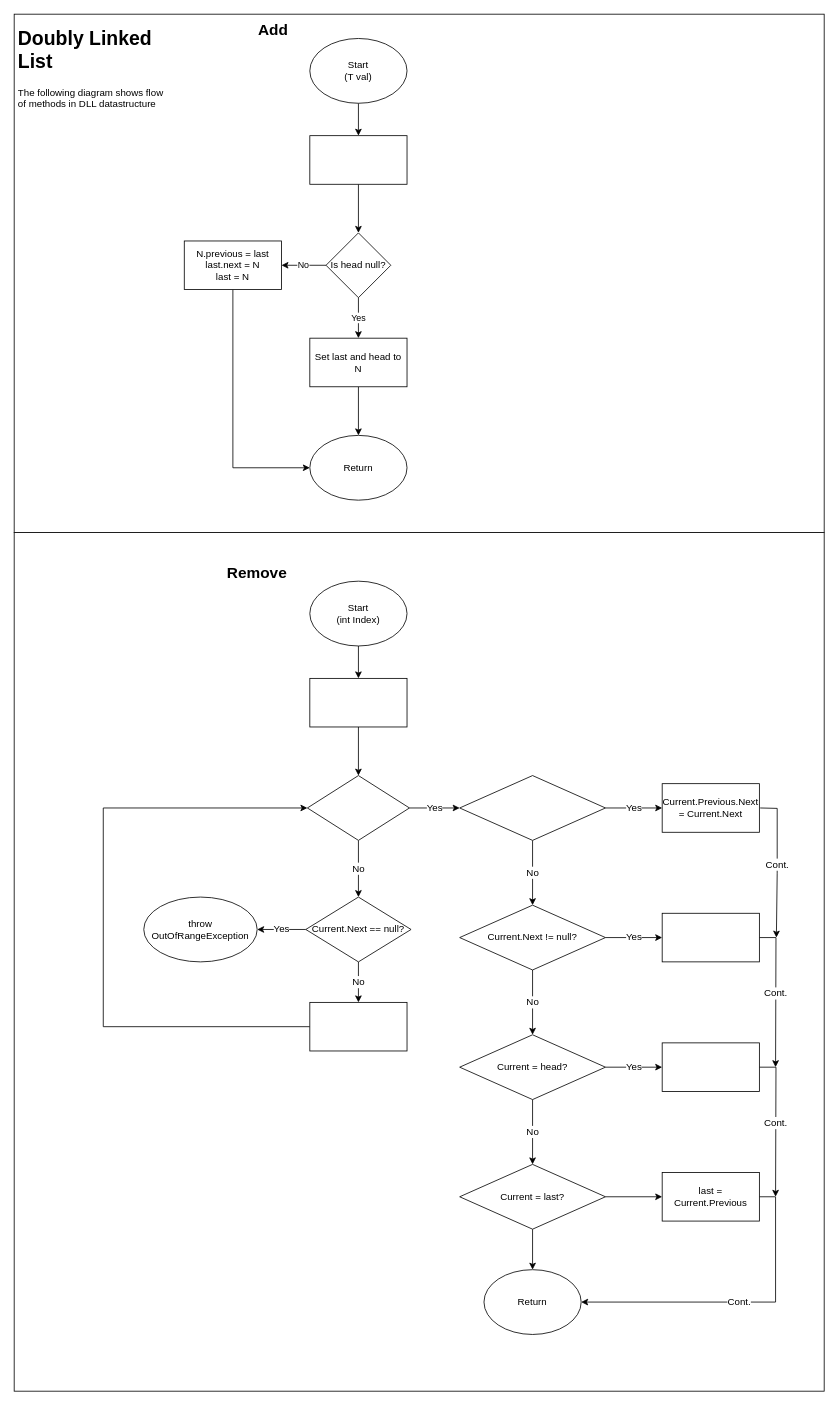
Image size: 838x1405. Some labels were removed from this diagram. Each missing label, with the centre of its shape:
Create a new Node N and assign value: (358,159)
Current = Current.Next: (358,1026)
Current = head: (358,702)
Current.Next.Previous = Current.Previous: (710,937)
Current.Previous != null?: (532,807)
head = Current.Next: (710,1066)
If i == Index: (358,807)
